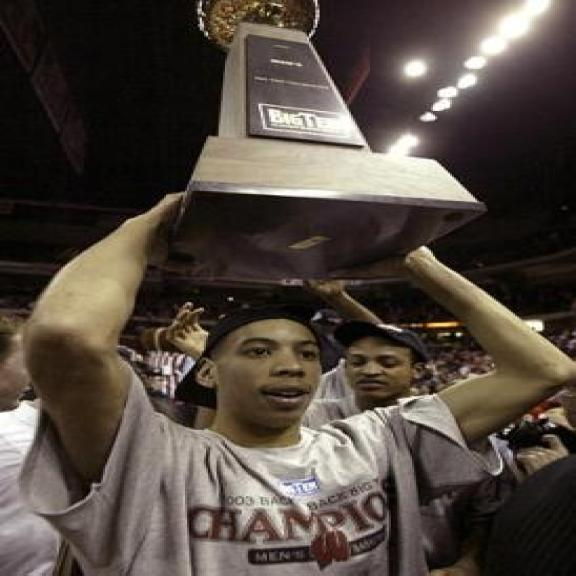face: (196, 323, 322, 432), (341, 334, 427, 404)
